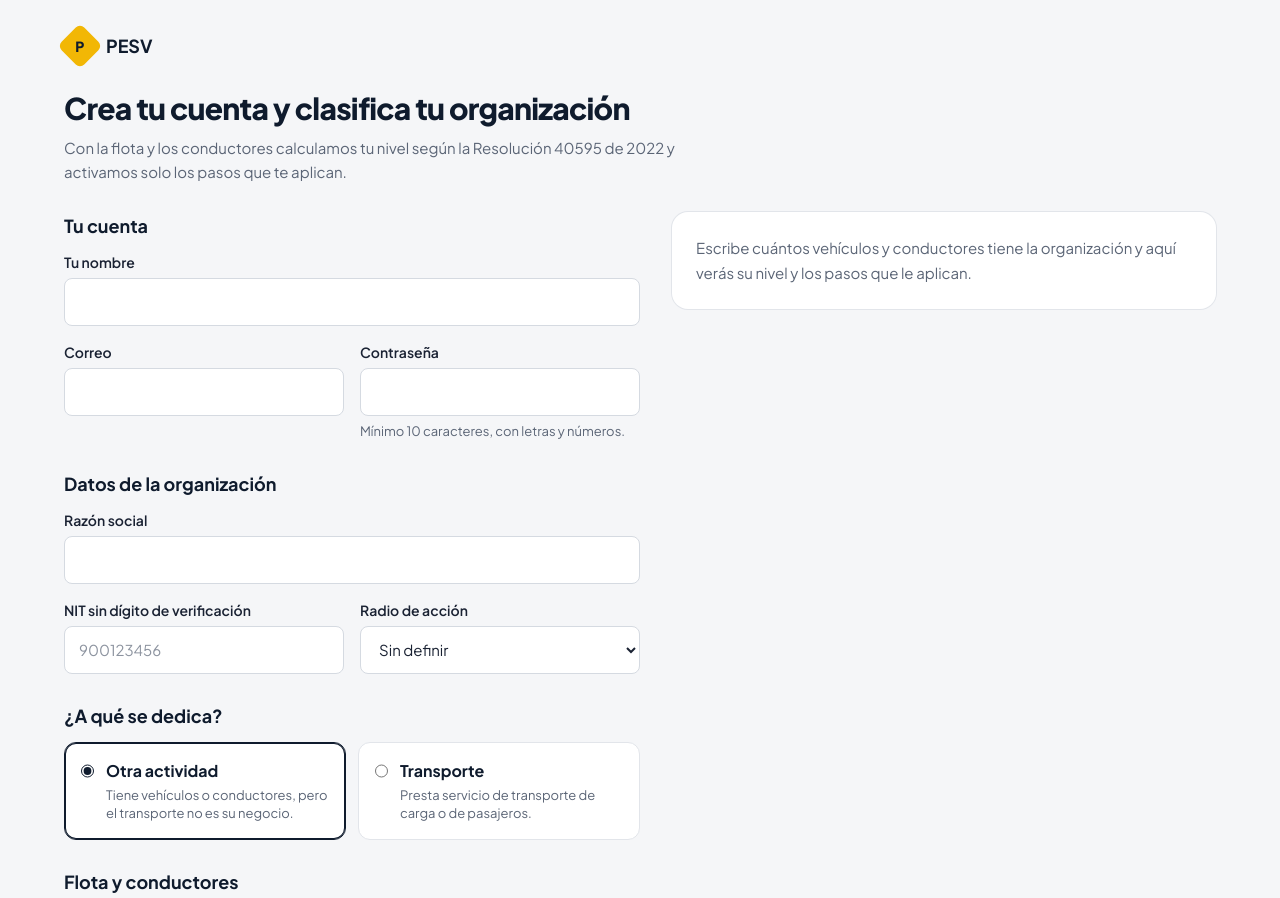
it: Registro › valida la contraseña antes de enviar
The image size is (1280, 898).
Type "corta" into the password field labelled "Contraseña" at (500, 392), box [360,368,640,416]
(page scrolled)
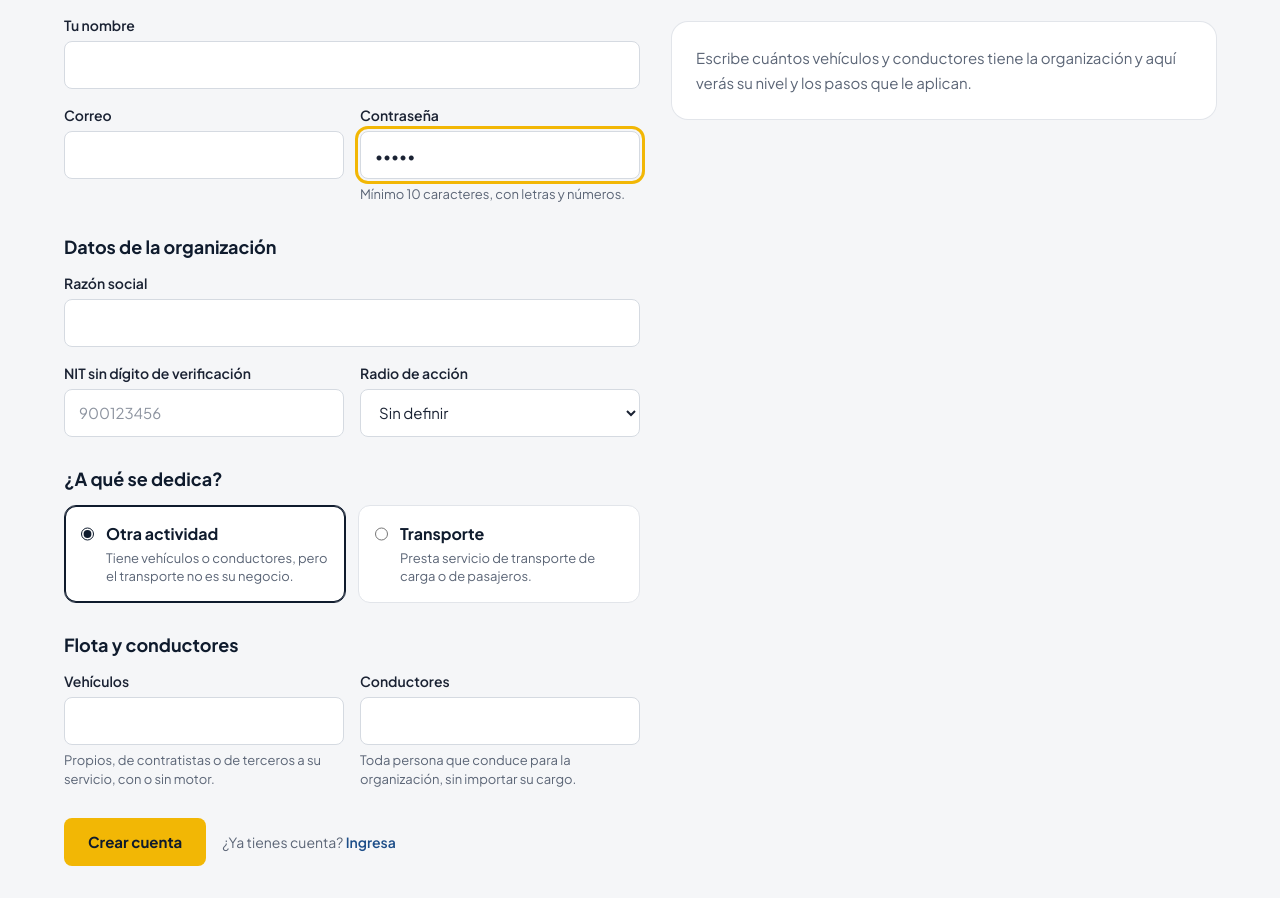
Click the button "Crear cuenta" at (135, 842), box [64,818,206,866]
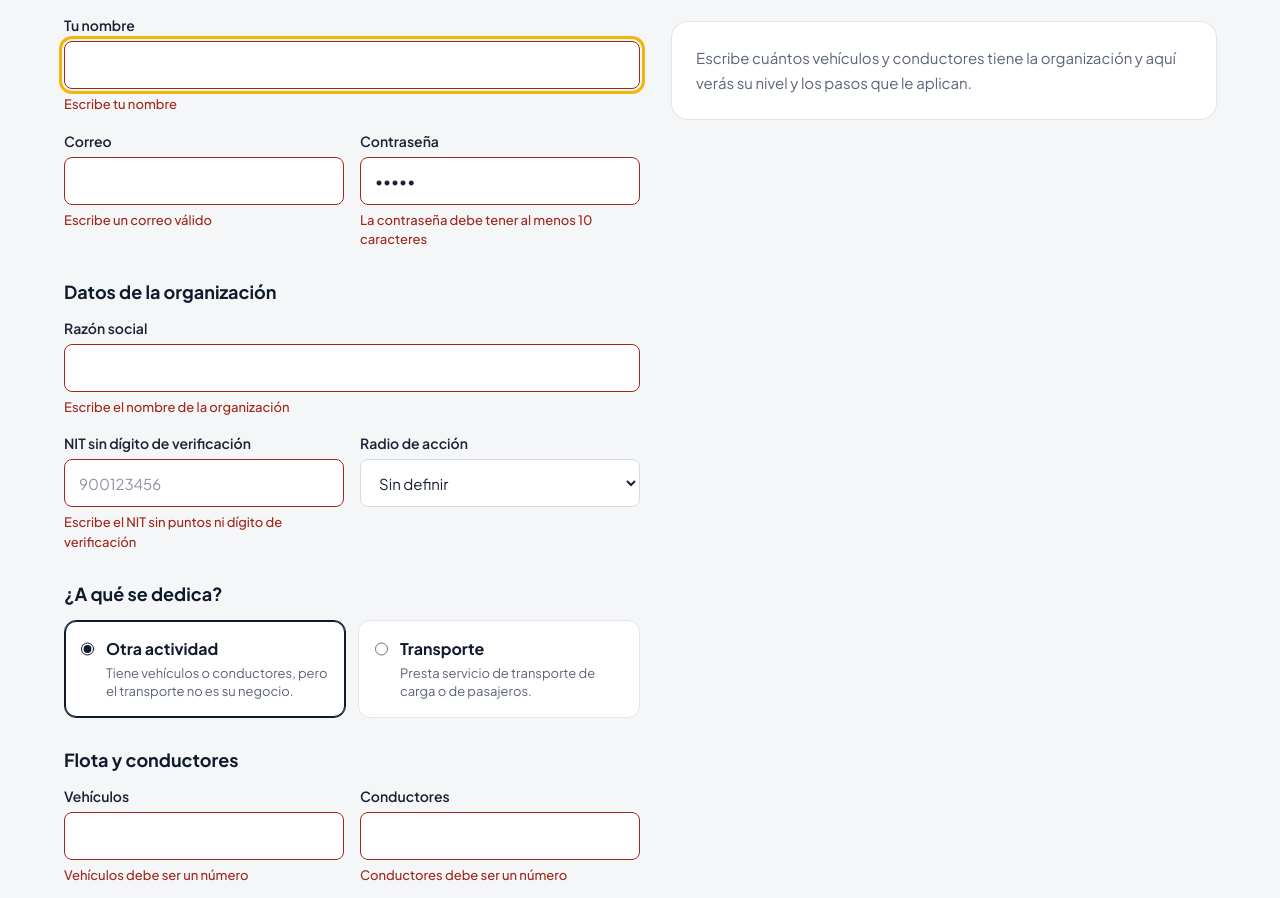
Check: the text "La contraseña debe tener al menos 10 caracteres" is shown, box [360,212,592,247]
